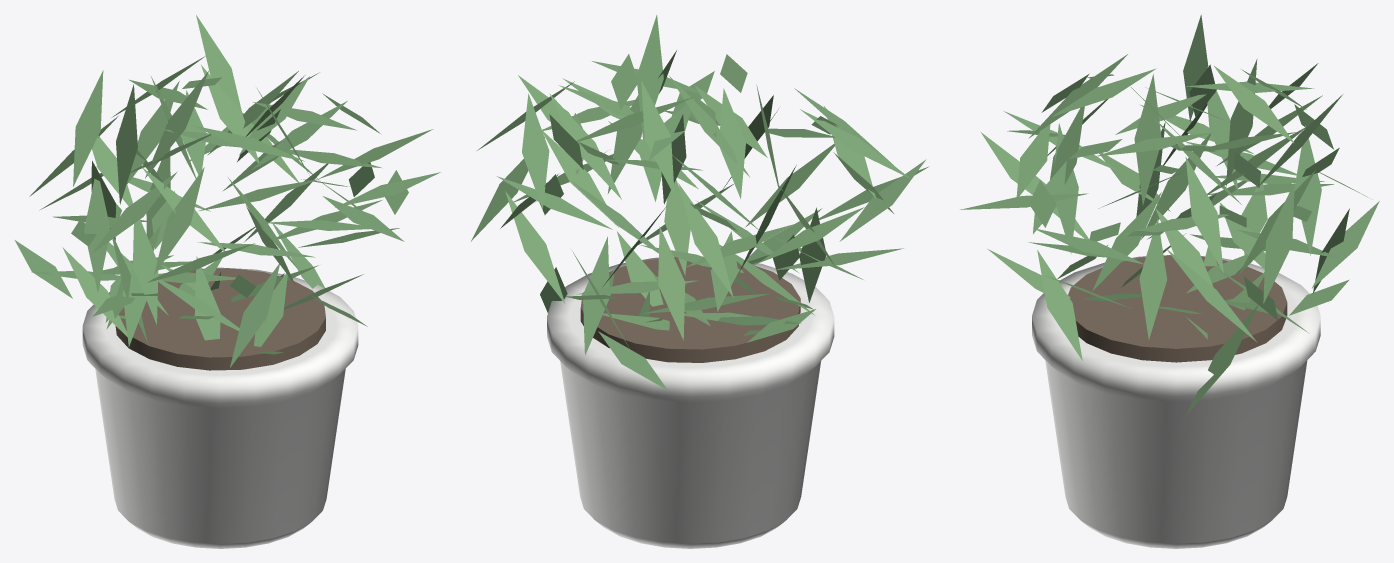
Rendered from plant_small.glb.
3 renders of one model, left to right at view 1: azimuth 30°, elevation 25°; view 2: azimuth 150°, elevation 25°; view 3: azimuth 270°, elevation 25°, orthographic. The views are drawn at different scales.
Parts seen in each view (by area): view 1: foliage, pot, soil; view 2: foliage, pot, soil; view 3: foliage, pot, soil.
Part boxes in pixels (box(x1,y1,x2,y2)): foliage: box(14, 15, 440, 367); pot: box(82, 267, 358, 548); soil: box(115, 268, 325, 370); foliage: box(471, 15, 929, 390); pot: box(547, 256, 834, 548); soil: box(580, 257, 800, 362); foliage: box(960, 14, 1379, 414); pot: box(1032, 255, 1320, 548); soil: box(1068, 255, 1287, 362).
Size of the model in its own units: 0.3921 by 0.4569 by 0.3792.
